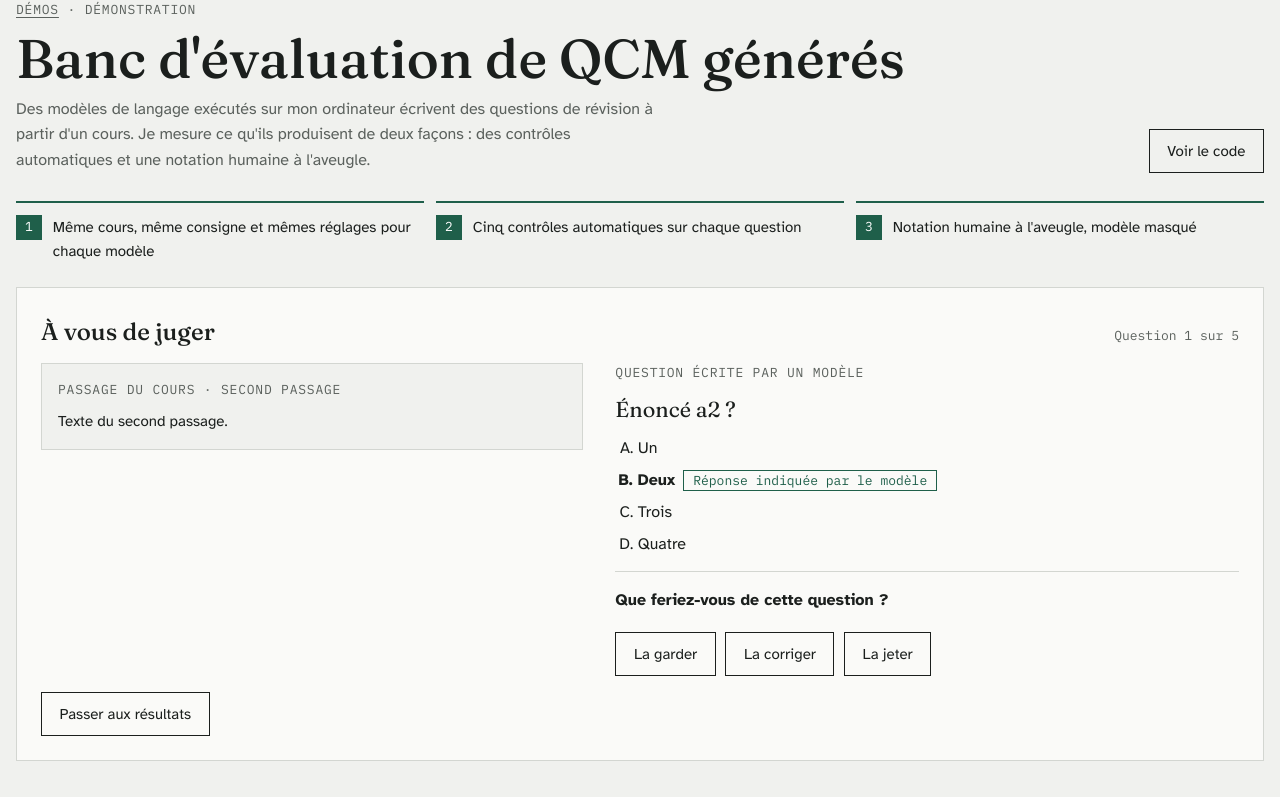
Test: page du banc › affiche les résultats par modèle et le croisement
Click the button "La corriger": click(780, 654) [725, 632, 834, 676]
(page scrolled)
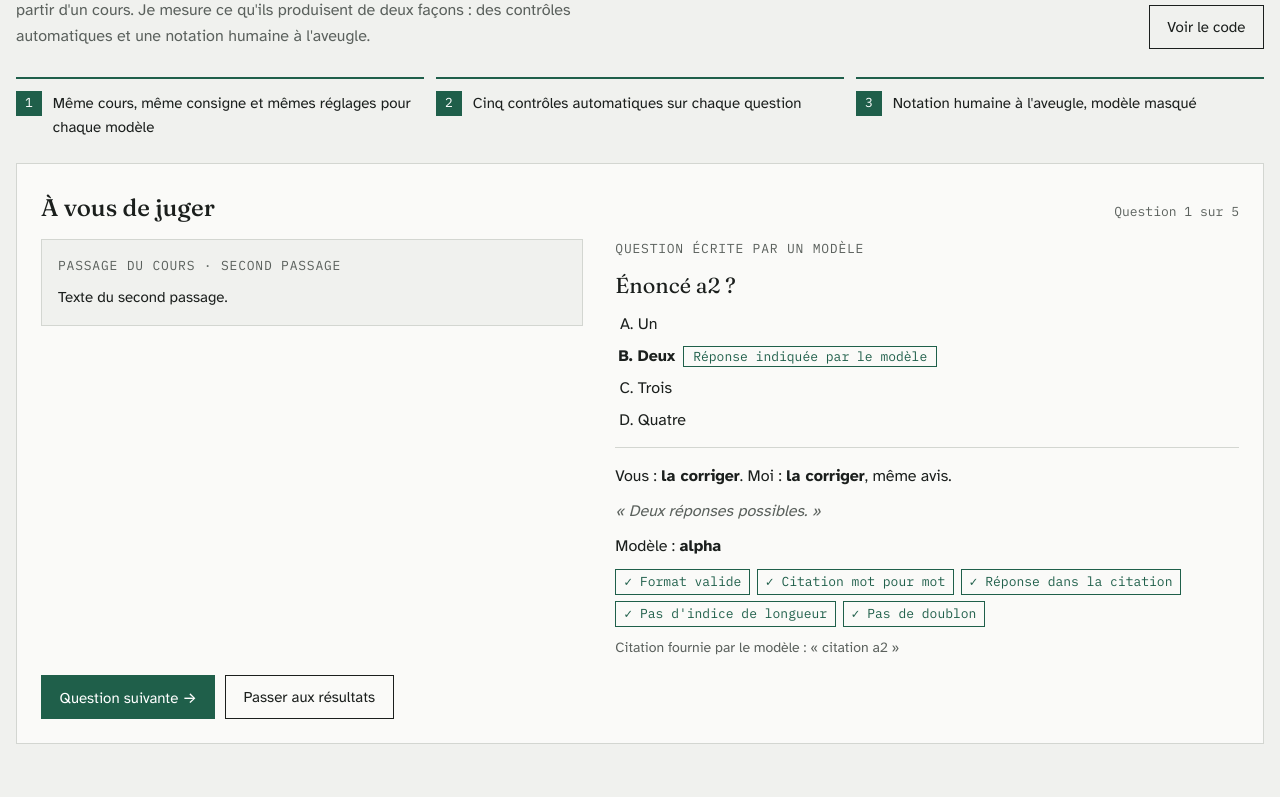
Click the button "Passer aux résultats": click(309, 697) [225, 675, 394, 719]
(page scrolled)
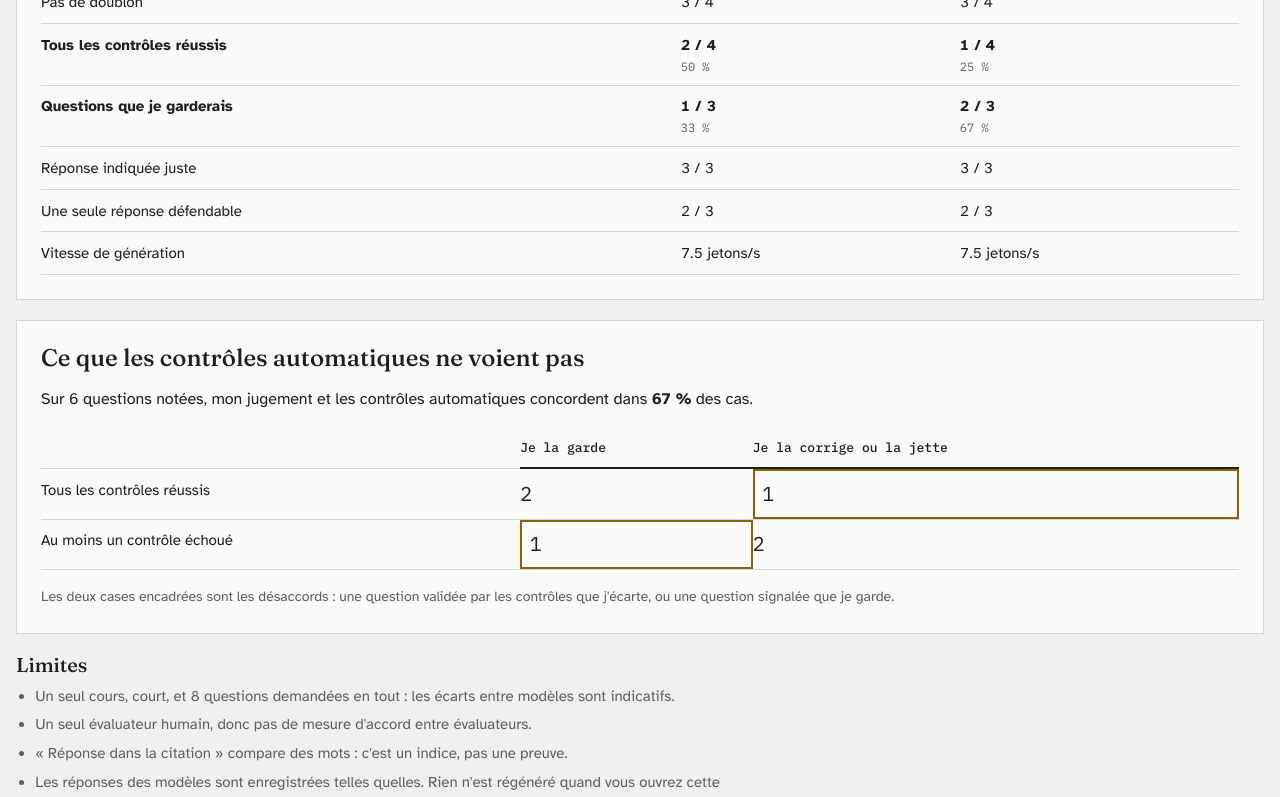
Now the row "Tous les contrôles réussis 2 / 4 50 % 1 / 4 25 %" is shown, box [41, 23, 1239, 85]
Now the table named "Croisement" is shown, box [41, 429, 1239, 570]
Now the text "concordent dans" shows "67 %", box [652, 390, 691, 410]
